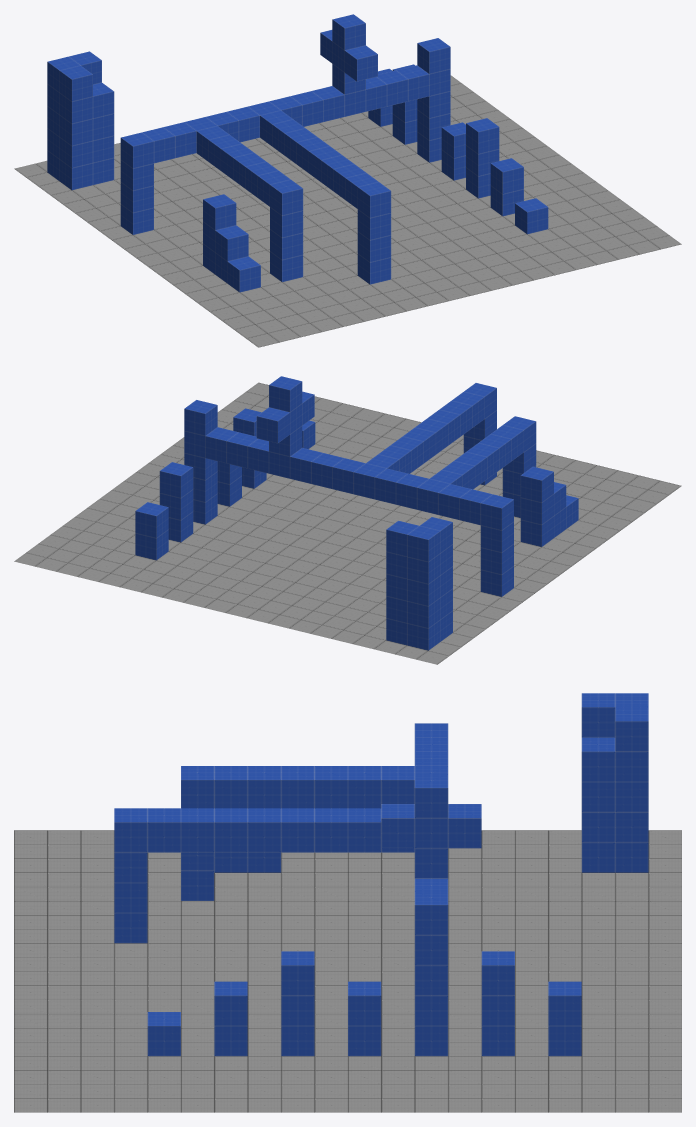
The picture shows the model from 3 angles, top to bottom: view 1: azimuth 30°, elevation 25°; view 2: azimuth 150°, elevation 25°; view 3: azimuth 270°, elevation 25°; orthographic projection. The views are drawn at different scales.
Parts seen in each view (by area): view 1: Plane; view 2: Plane; view 3: Plane.
Part boxes in pixels (x1=…): Plane: x1=14, y1=14, x2=681, y2=347; Plane: x1=14, y1=376, x2=681, y2=664; Plane: x1=14, y1=693, x2=681, y2=1112.
Bounding box in the file's own units: 20 × 7 × 20.
Materials: 2 (2 with a texture image).
